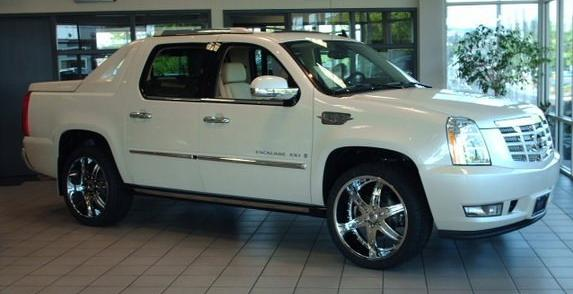front_view: (439, 101, 565, 237)
headlight: (443, 112, 495, 170)
side_glass: (137, 42, 294, 111)
